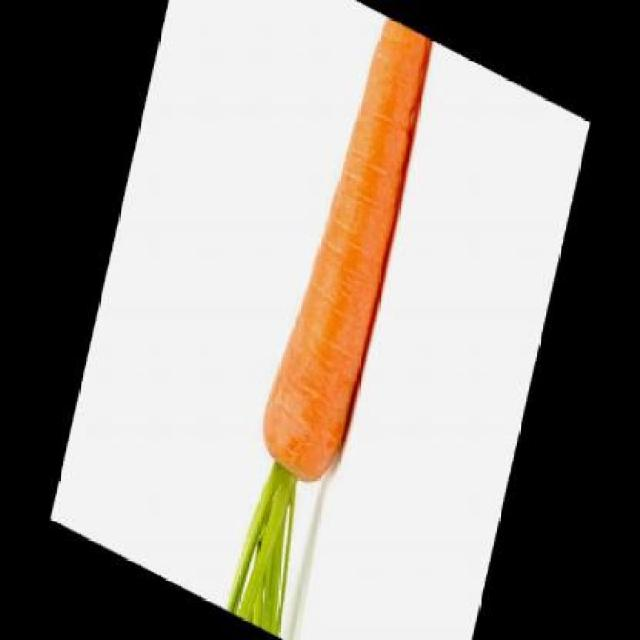carrot: (252, 1, 436, 494)
